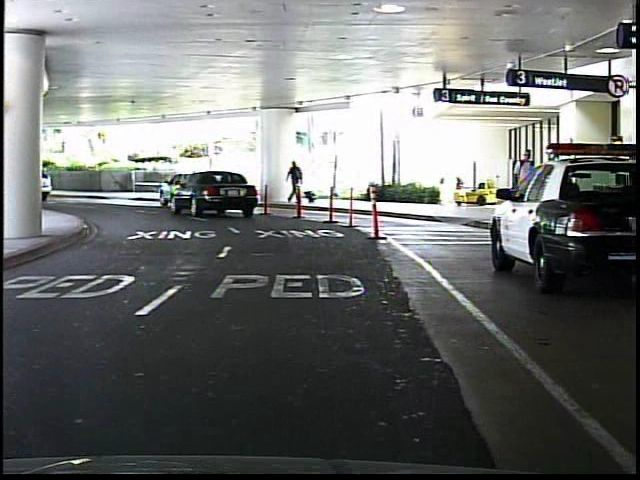person: (510, 145, 537, 229), (283, 160, 311, 209)
